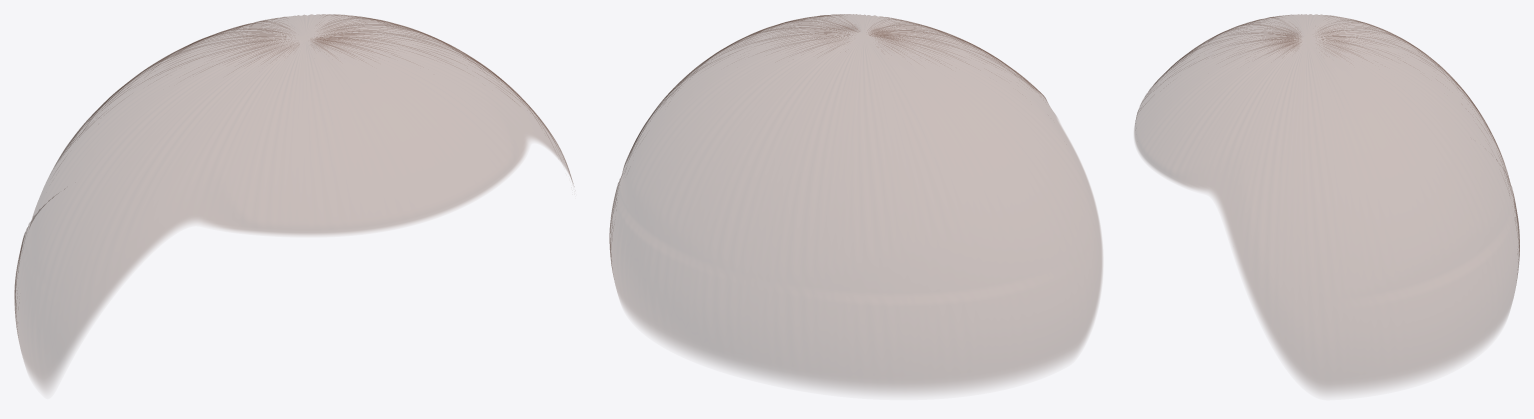
File: Highlights-c23de5bf589b252-hair.glb
The picture shows the model from 3 angles, left to right: view 1: azimuth 30°, elevation 25°; view 2: azimuth 150°, elevation 25°; view 3: azimuth 270°, elevation 25°; orthographic projection. The views are drawn at different scales.
Visible parts, largest first — view 1: 226 hair / Hair252 / buzz edge.001; view 2: 226 hair / Hair252 / buzz edge.001; view 3: 226 hair / Hair252 / buzz edge.001.
Boxes of the visible parts, x1,y1,x2,y2 form: 226 hair / Hair252 / buzz edge.001: [14, 14, 573, 389]; 226 hair / Hair252 / buzz edge.001: [609, 14, 1102, 392]; 226 hair / Hair252 / buzz edge.001: [1134, 14, 1519, 392].
Size of the model in its own units: 0.9886 by 0.5747 by 0.761.
Materials: 1 (1 with a texture image).
